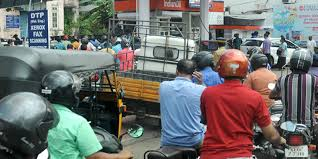helmet: (1, 91, 60, 156), (40, 70, 81, 107), (218, 48, 249, 81), (289, 48, 312, 75), (250, 51, 268, 70)
